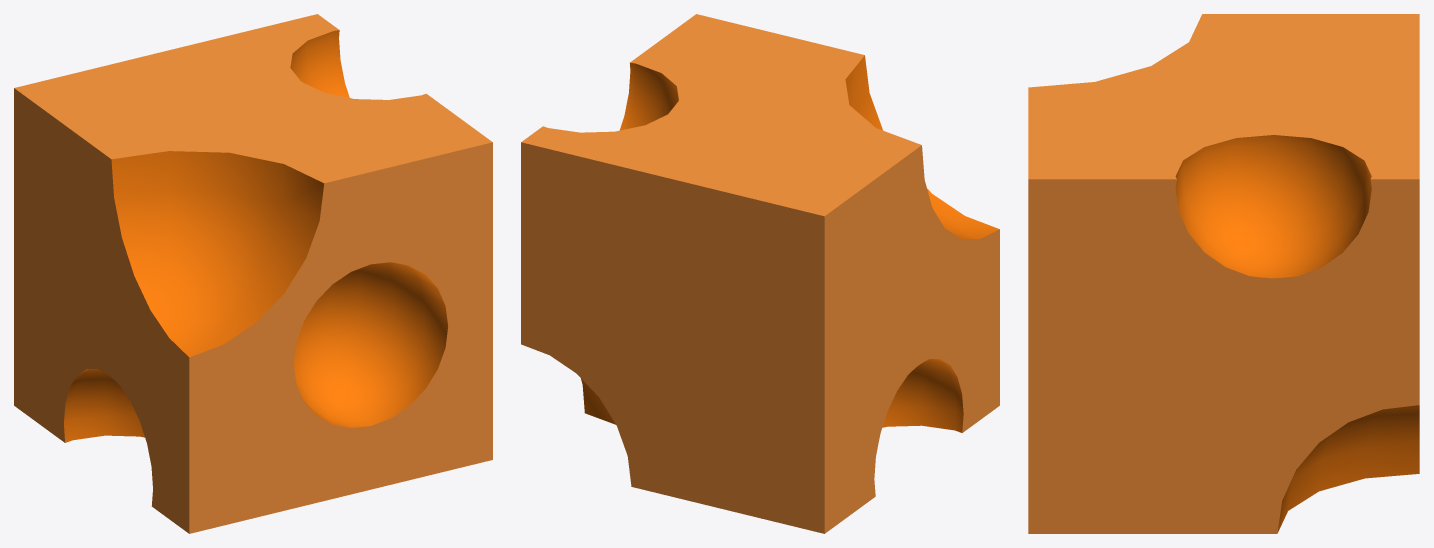
Rendered from Cheese B.fbx.
3 views of the same model, side by side, from view 1: azimuth 30°, elevation 25°; view 2: azimuth 150°, elevation 25°; view 3: azimuth 270°, elevation 25° (orthographic). The views are drawn at different scales.
Parts seen in each view (by area): view 1: Cheese B; view 2: Cheese B; view 3: Cheese B.
Boxes of the visible parts, x1,y1,x2,y2 form: Cheese B: [14, 14, 492, 533]; Cheese B: [521, 14, 999, 533]; Cheese B: [1028, 14, 1419, 533].
Size of the model in its own units: 0.0944 by 0.0944 by 0.0944.
